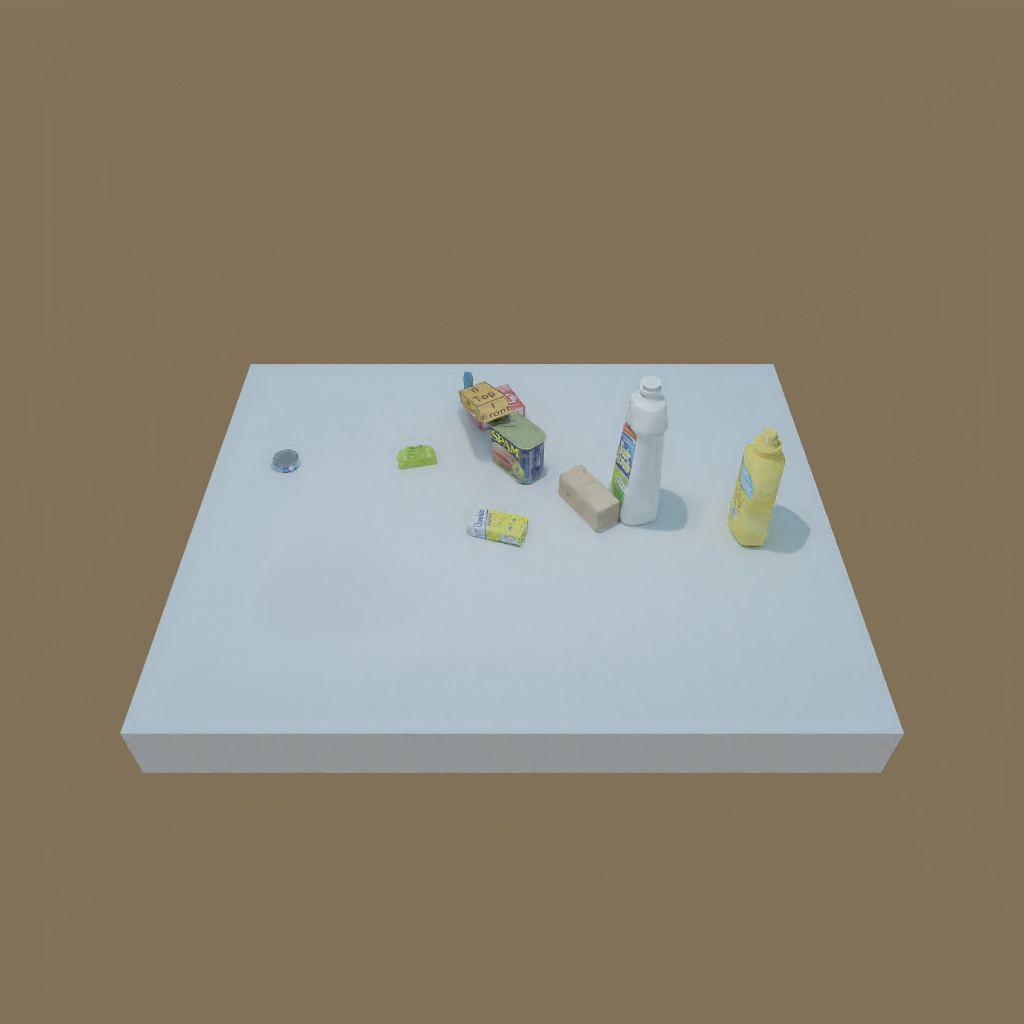gelatin_box: (477, 392, 526, 427)
jenga: (453, 386, 508, 424)
mustard_bottle: (728, 427, 777, 554)
potted_meat_can: (489, 409, 547, 485)
wood_block: (559, 466, 621, 532)
